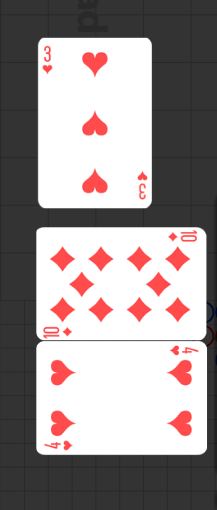10D: (166, 230, 198, 243)
3H: (42, 44, 54, 77)
4H: (44, 439, 75, 452)
